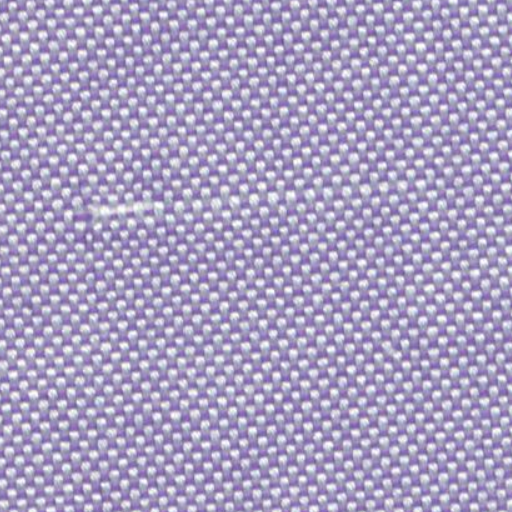DaiSha: (80, 176, 432, 228)
